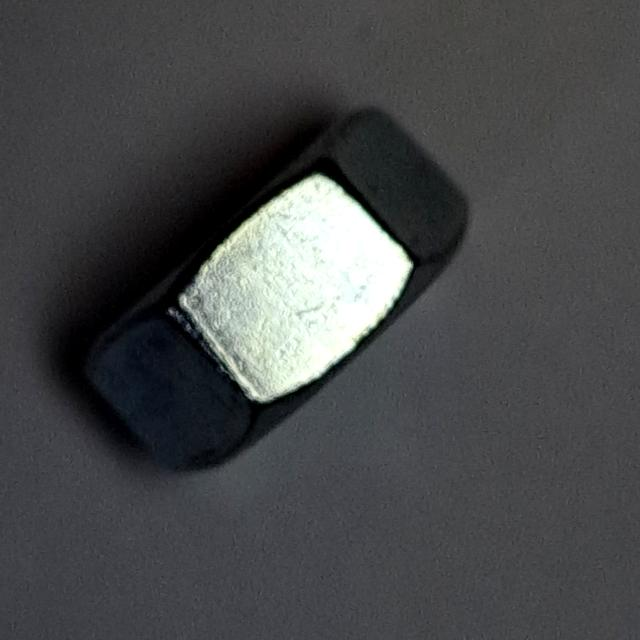Side_Excellent: (55, 96, 493, 483)
